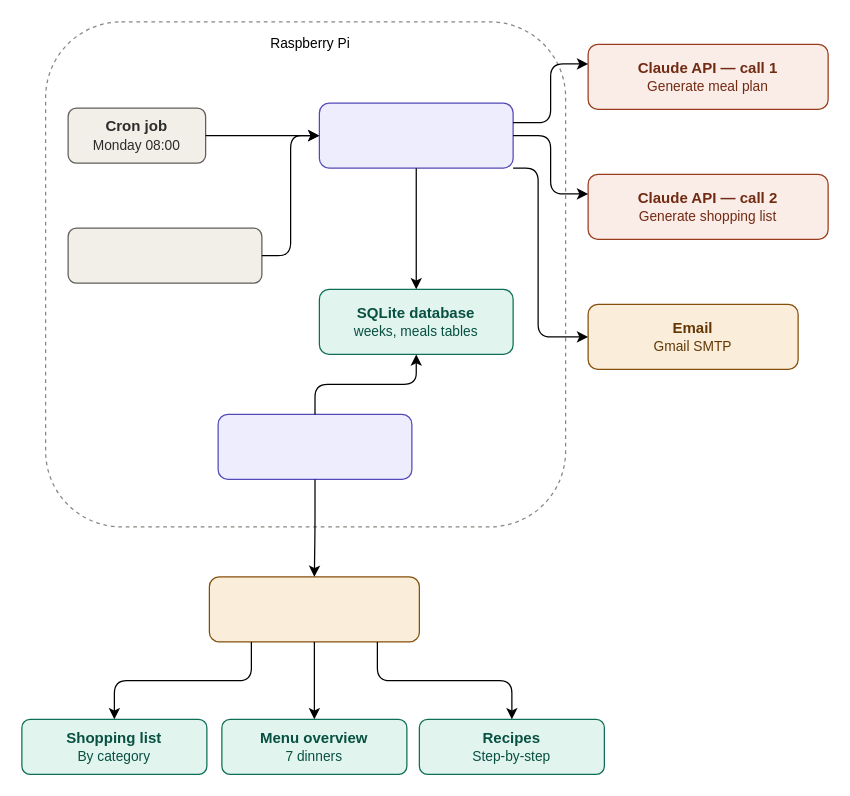
This 850x796 diagram has some shape labels left out. Each missing label, with the centre of its shape:
"Cloudflare tunnel mat.nikolaidokken.no" goes at point 313,609.
"Flask web app Reads from database" goes at point 314,446.
"preferences.json Liked dishes, cuisine" goes at point 164,255.
"weekly_job.py Orchestrates the week" goes at point 415,135.
